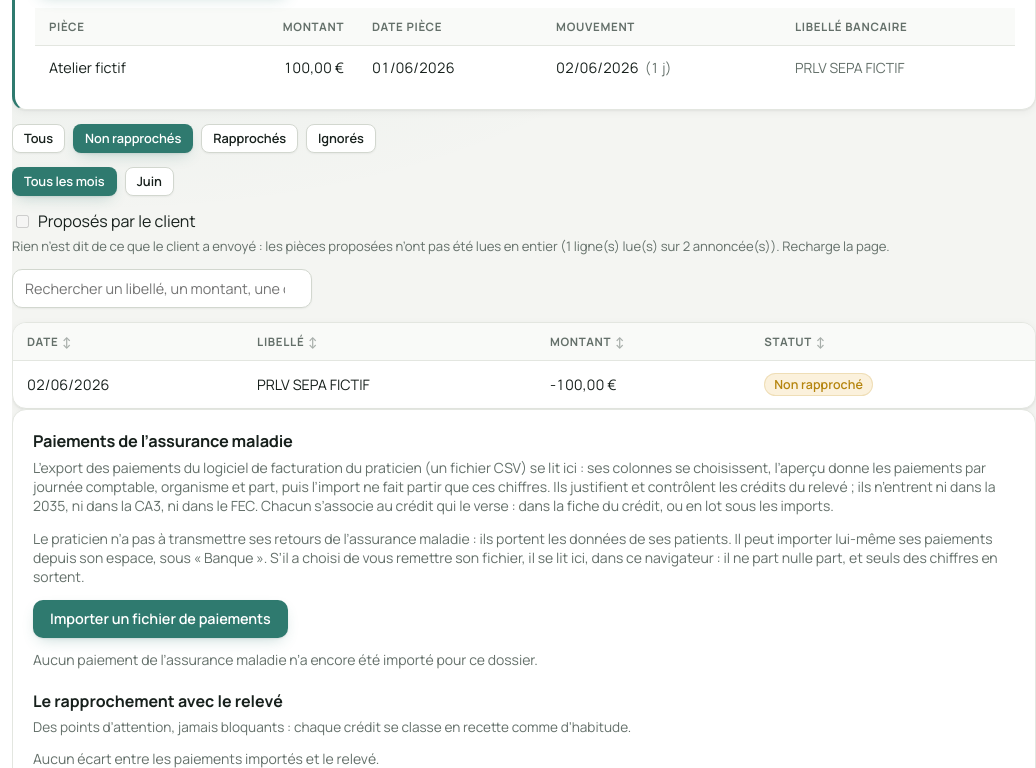
Test: une lecture partielle, ou pas encore revenue : rien n’est dit ni offert › les propositions lues en partie : le motif, ni carte, ni « Associer », ni question, ni filtre, ni pastille
The width and height of the screenshot is (1036, 768).
(page scrolled)
Step 1. Click the 2nd text "PRLV SEPA FICTIF" → x=313, y=385, box [243, 360, 536, 408]
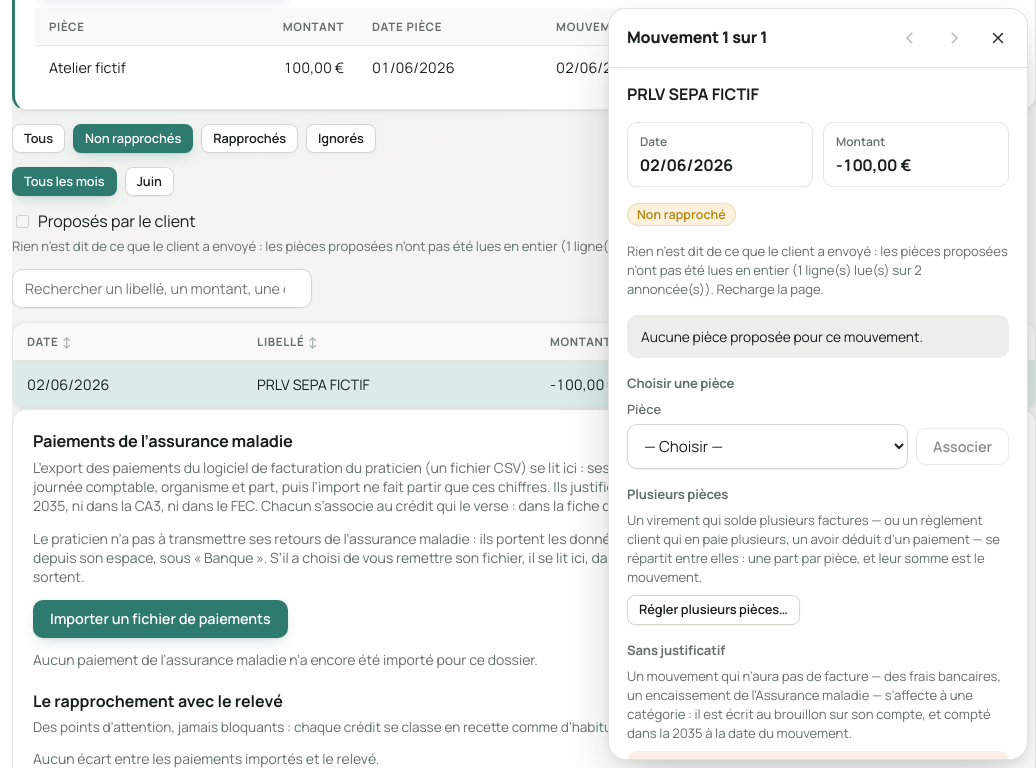
Expected: the checkbox labelled "Proposés par le client" is disabled, [16, 215, 29, 228]
Expected: the text "Rien n’est dit de ce que le client a envoyé : les pièces proposées n’ont pas été lues en entier" is shown, [627, 242, 1008, 298]
